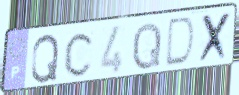4: (99, 23, 126, 77)
C: (63, 30, 97, 79)
D: (163, 15, 197, 69)
Q: (130, 20, 163, 73), (30, 32, 61, 85)
X: (196, 9, 233, 66)
